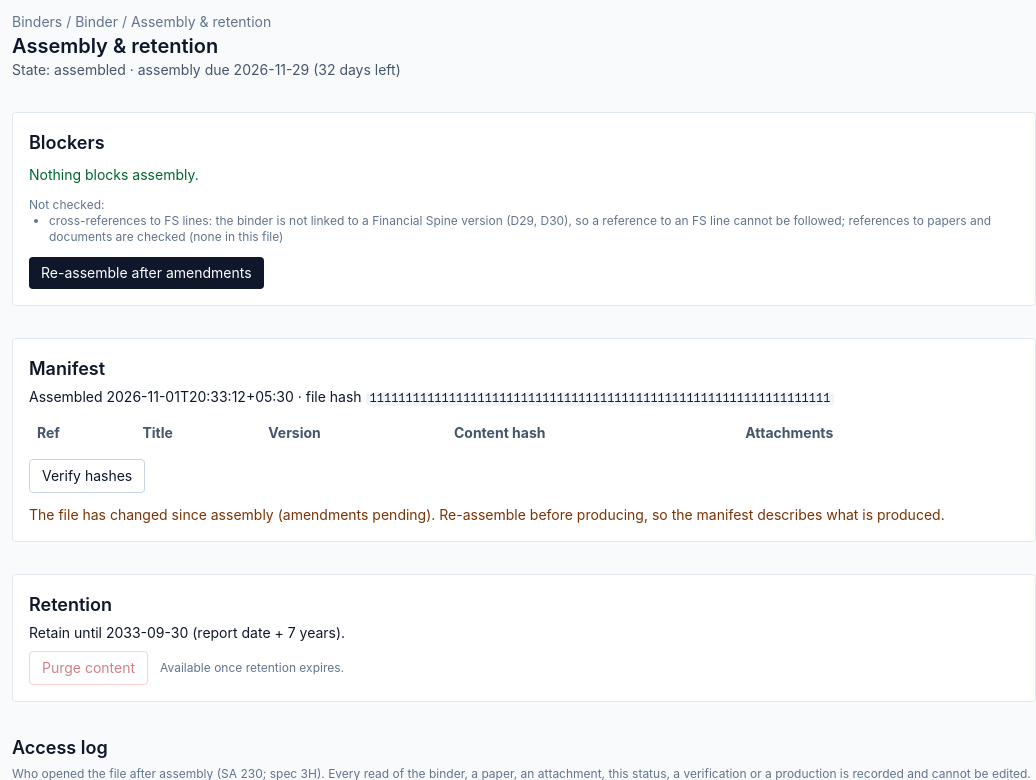
Test: re-assembly after an amendment replaces the hash and extends the trail
Expected: the text "amendments pending" is shown, x1=29 y1=506 x2=945 y2=523
Click the button "Re-assemble after amendments".
click(146, 273)  # box x1=29 y1=257 x2=264 y2=289
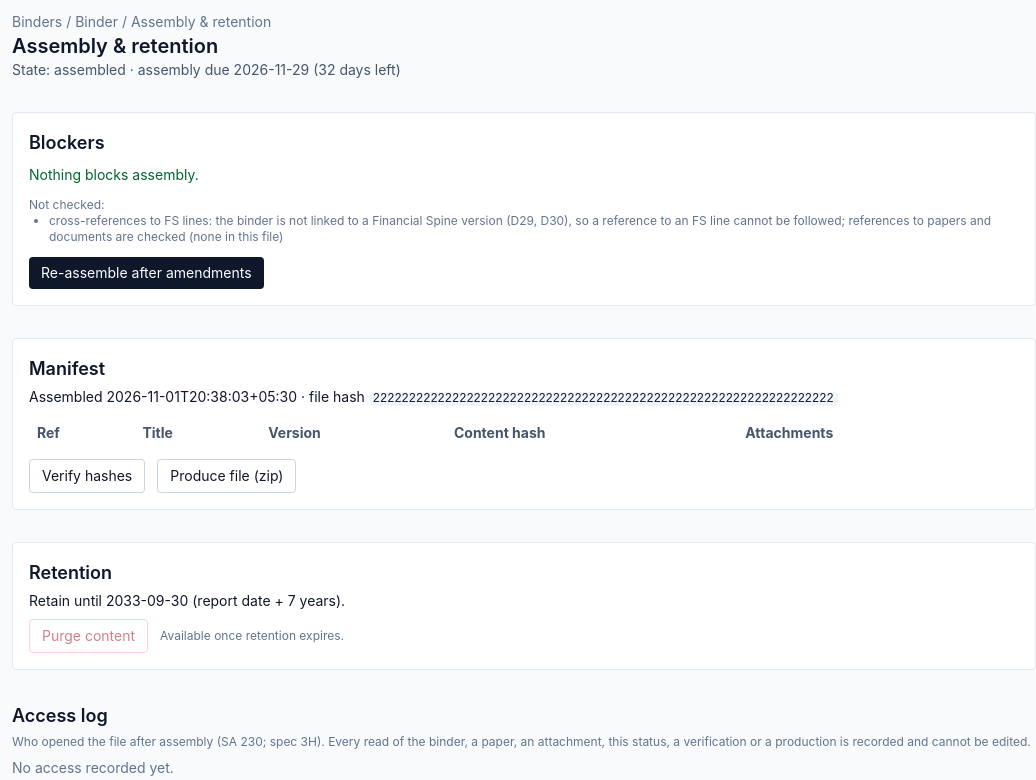
Expected: the text with test id "state" reads "assembled", x1=54 y1=61 x2=126 y2=78
Expected: the text "amendments pending" is gone
